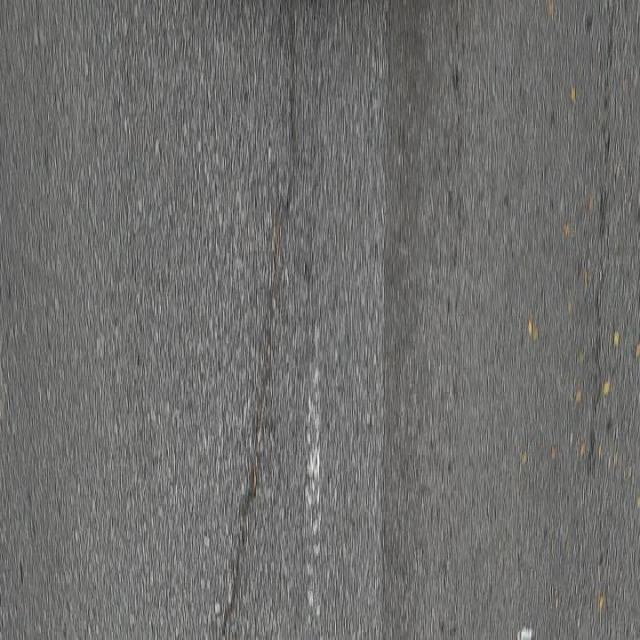cracks: (211, 0, 306, 640), (589, 0, 622, 495)
